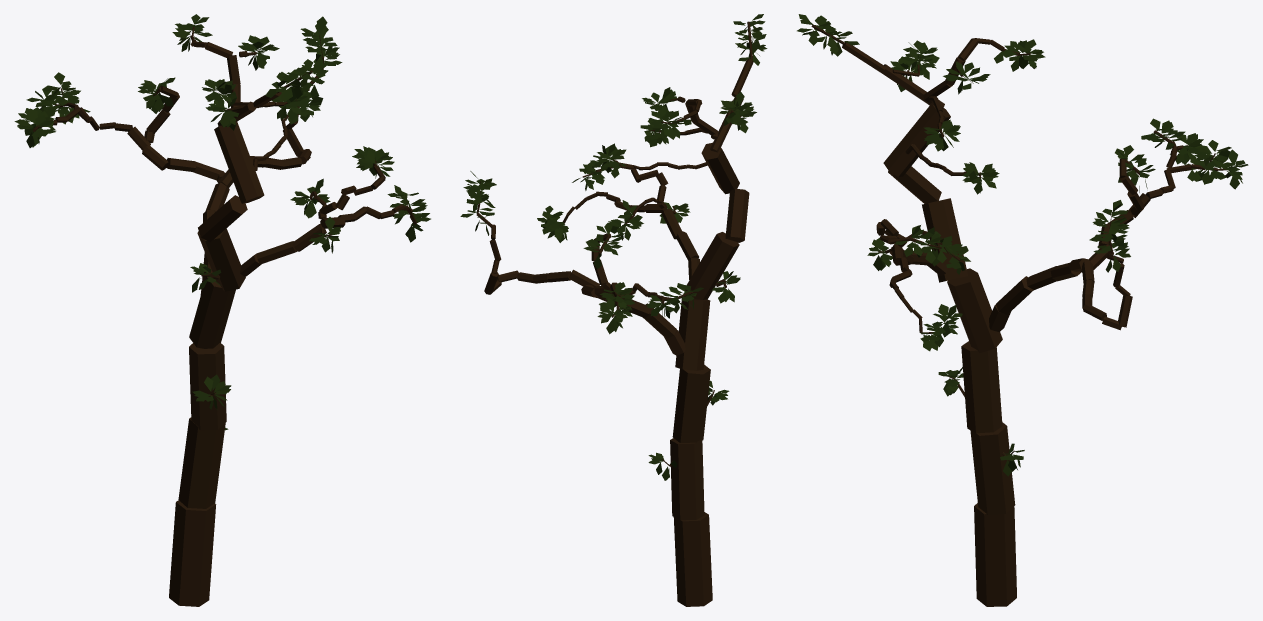
The model's file is tree_48.obj.
3 views of the same model, side by side, from view 1: azimuth 30°, elevation 25°; view 2: azimuth 150°, elevation 25°; view 3: azimuth 270°, elevation 25° (orthographic). The views are drawn at different scales.
Visible parts, largest first — view 1: TrunkAndBranches, Leaves; view 2: TrunkAndBranches, Leaves; view 3: TrunkAndBranches, Leaves.
Boxes of the visible parts, bbox=[...] form: TrunkAndBranches: bbox=[33, 27, 416, 606]; Leaves: bbox=[14, 14, 430, 430]; TrunkAndBranches: bbox=[476, 21, 753, 606]; Leaves: bbox=[460, 14, 767, 480]; TrunkAndBranches: bbox=[811, 24, 1227, 606]; Leaves: bbox=[797, 14, 1248, 476].
Size of the model in its own units: 5.58 by 10.65 by 7.33.
